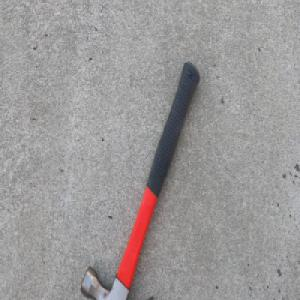Hammer: (79, 59, 202, 300)
